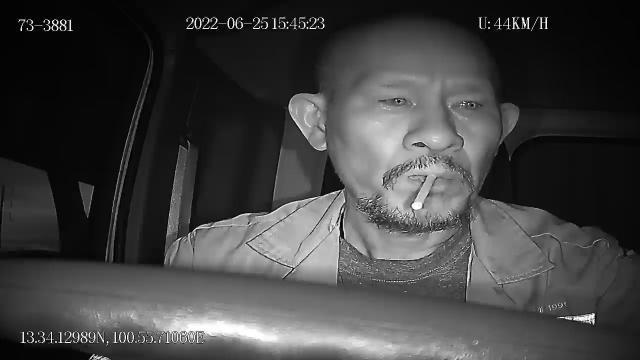SafeDriving: (440, 87, 494, 119), (367, 83, 422, 114)
Smoking: (412, 173, 436, 211)
